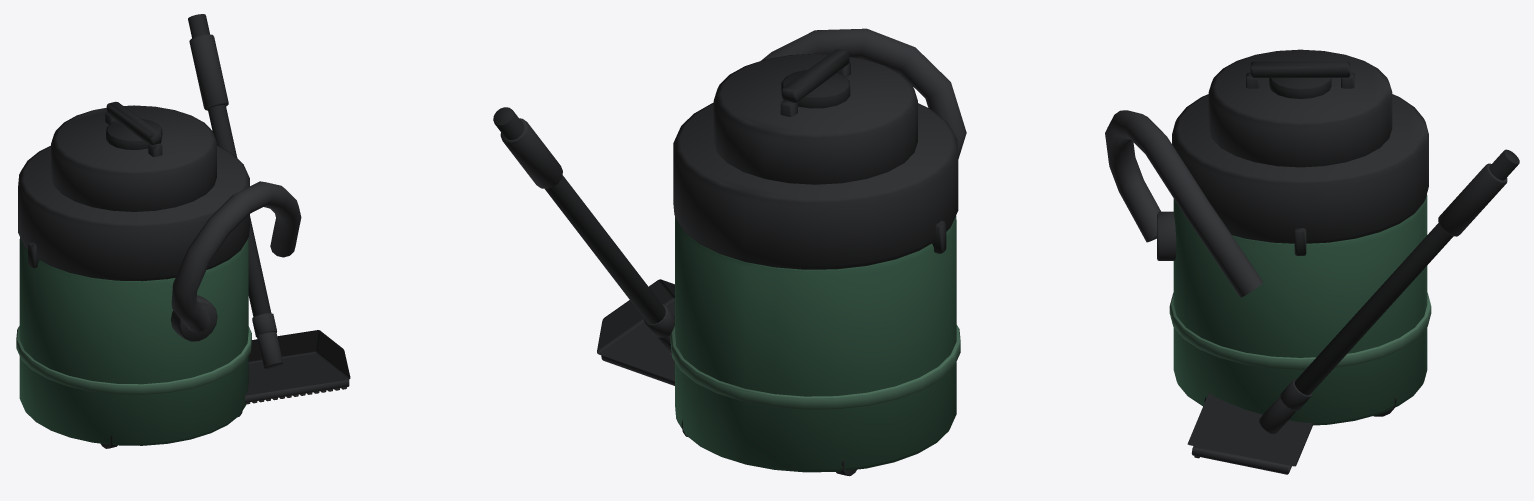
File: asset_071_vacuum_cleaner.glb
3 views of the same model, side by side, from view 1: azimuth 30°, elevation 25°; view 2: azimuth 150°, elevation 25°; view 3: azimuth 270°, elevation 25° (orthographic). The views are drawn at different scales.
Visible parts, largest first — view 1: MESH_VacuumMachine, MESH_VacHose, MESH_VacHeadShell, MESH_VacWand, MESH_VacWandGrip, MESH_VacHeadSole, MESH_VacHeadNeck; view 2: MESH_VacuumMachine, MESH_VacHose, MESH_VacWand, MESH_VacHeadShell, MESH_VacWandGrip; view 3: MESH_VacuumMachine, MESH_VacHose, MESH_VacWand, MESH_VacHeadShell, MESH_VacWandGrip, MESH_VacHeadSole, MESH_VacHeadNeck.
Part boxes in pixels (box(x1,y1,x2,y2)): MESH_VacuumMachine: box(16, 101, 251, 448); MESH_VacHose: box(171, 181, 301, 332); MESH_VacHeadShell: box(244, 330, 350, 395); MESH_VacWand: box(188, 14, 271, 316); MESH_VacWandGrip: box(189, 34, 228, 110); MESH_VacHeadSole: box(244, 380, 349, 402); MESH_VacHeadNeck: box(257, 332, 282, 368); MESH_VacuumMachine: box(670, 49, 960, 476); MESH_VacHose: box(761, 28, 966, 158); MESH_VacWand: box(493, 107, 665, 323); MESH_VacHeadShell: box(597, 279, 674, 381); MESH_VacWandGrip: box(500, 118, 562, 188); MESH_VacuumMachine: box(1157, 49, 1431, 425); MESH_VacHose: box(1105, 110, 1263, 297); MESH_VacWand: box(1294, 149, 1519, 395); MESH_VacHeadShell: box(1187, 392, 1313, 466); MESH_VacWandGrip: box(1438, 163, 1507, 236); MESH_VacHeadSole: box(1191, 446, 1291, 474); MESH_VacHeadNeck: box(1259, 396, 1296, 434).
Size of the model in its own units: 0.702 by 0.653 by 0.9707.
